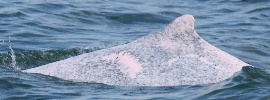fin: (17, 11, 254, 92)
